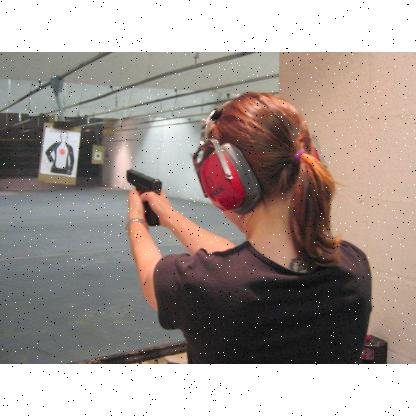gun: (123, 166, 163, 226)
